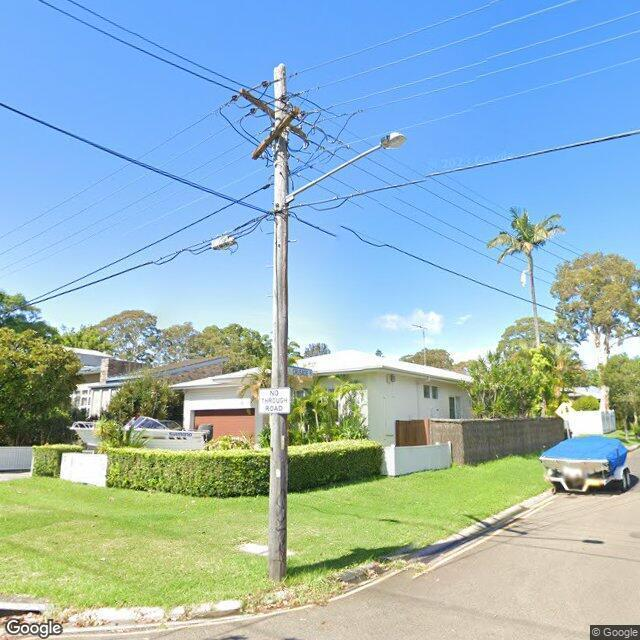crossarm: (238, 86, 306, 138), (250, 108, 300, 162)
streetlight: (285, 131, 406, 204)
timber-pole: (267, 62, 288, 580)
